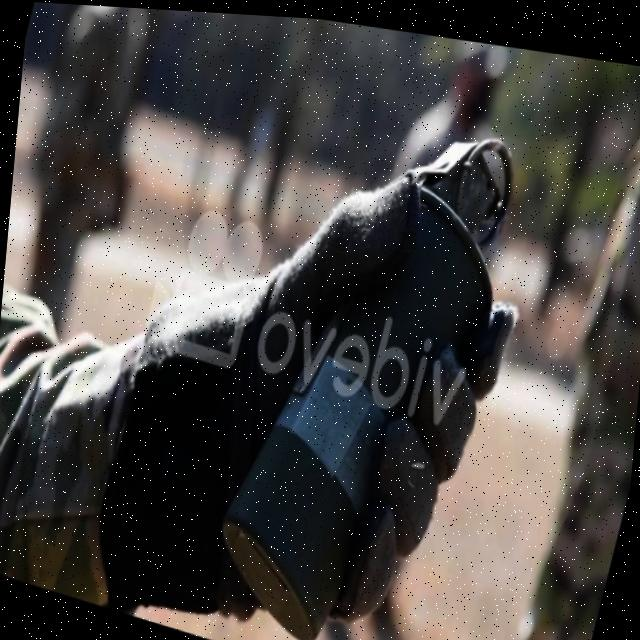grenade: (191, 59, 554, 640)
